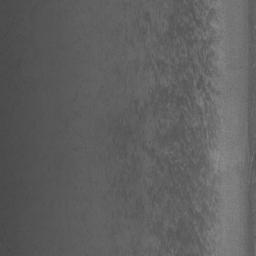Silk spot: (103, 0, 225, 256)
